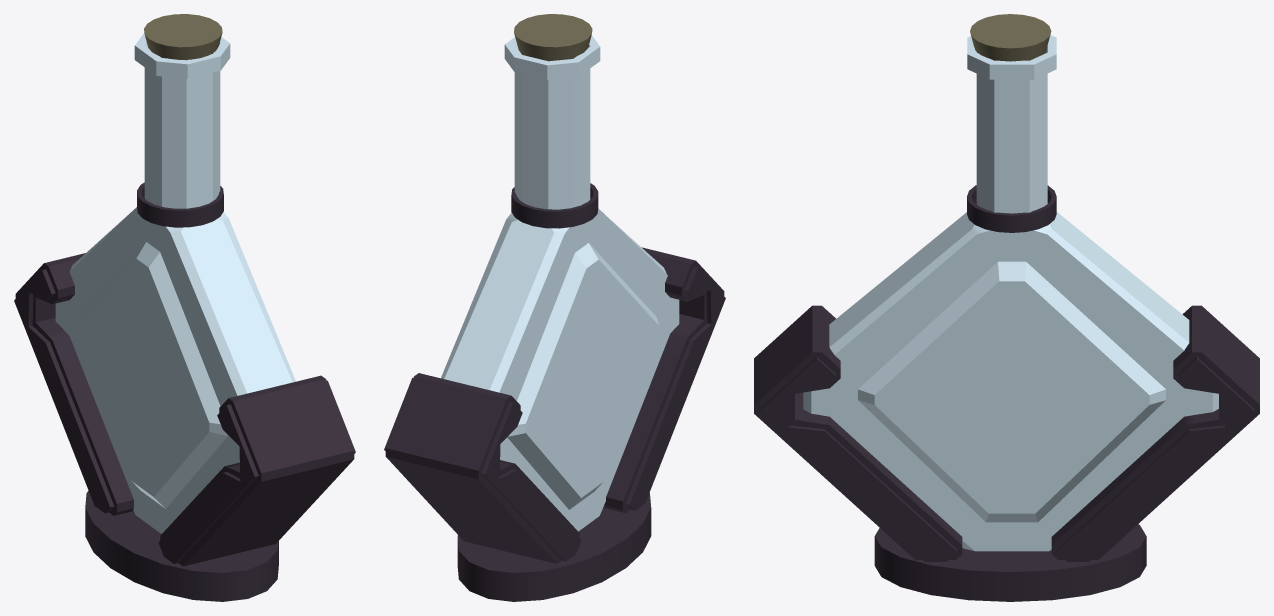
Rendered from potion bottle.fbx.
The picture shows the model from 3 angles, left to right: view 1: azimuth 30°, elevation 25°; view 2: azimuth 150°, elevation 25°; view 3: azimuth 270°, elevation 25°; orthographic projection. The views are drawn at different scales.
Parts seen in each view (by area): view 1: potion; view 2: potion; view 3: potion.
Boxes of the visible parts, bbox=[...] form: potion: bbox=[14, 14, 355, 601]; potion: bbox=[384, 14, 725, 601]; potion: bbox=[754, 14, 1259, 601].
Bounding box in the file's own units: 1.18 × 4.07 × 3.48.
